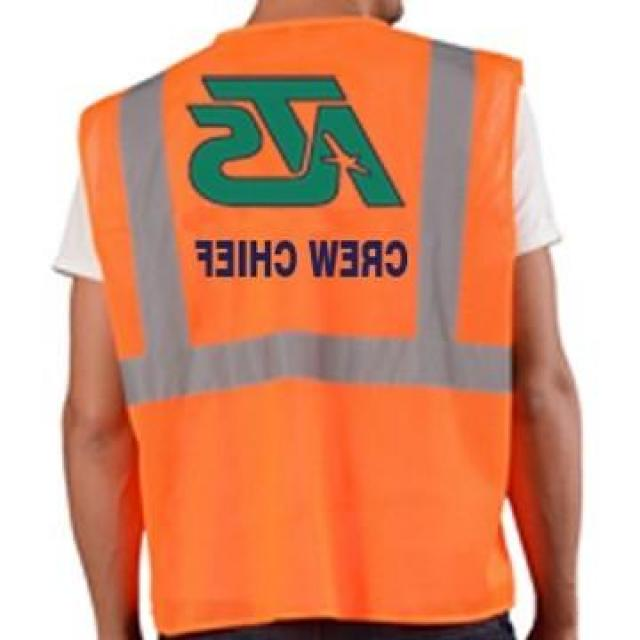Reflective-Jacket: (62, 10, 558, 640)
